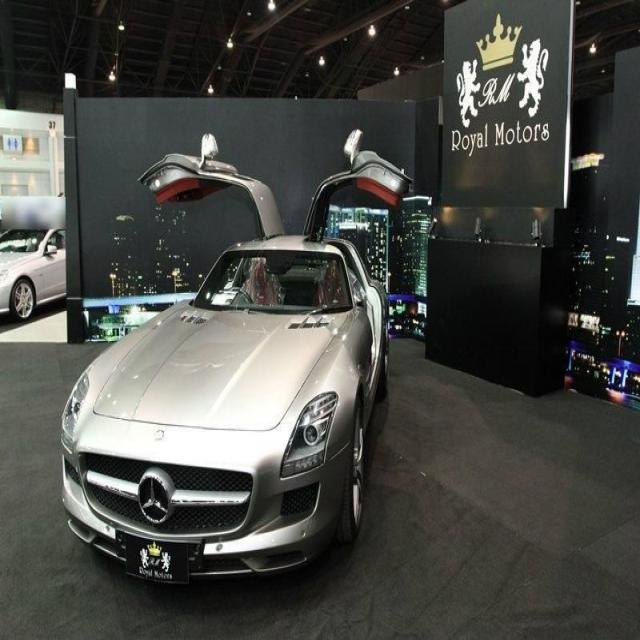front_bumper: (60, 404, 349, 583)
front_glass: (193, 250, 355, 312)
front_left_light: (278, 391, 338, 477)
front_right_light: (63, 371, 89, 436)
hood: (93, 308, 348, 431)
wheel: (351, 398, 365, 538), (383, 309, 390, 387)
